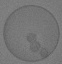small: (27, 33, 36, 42), (40, 47, 49, 56), (31, 42, 39, 51)
